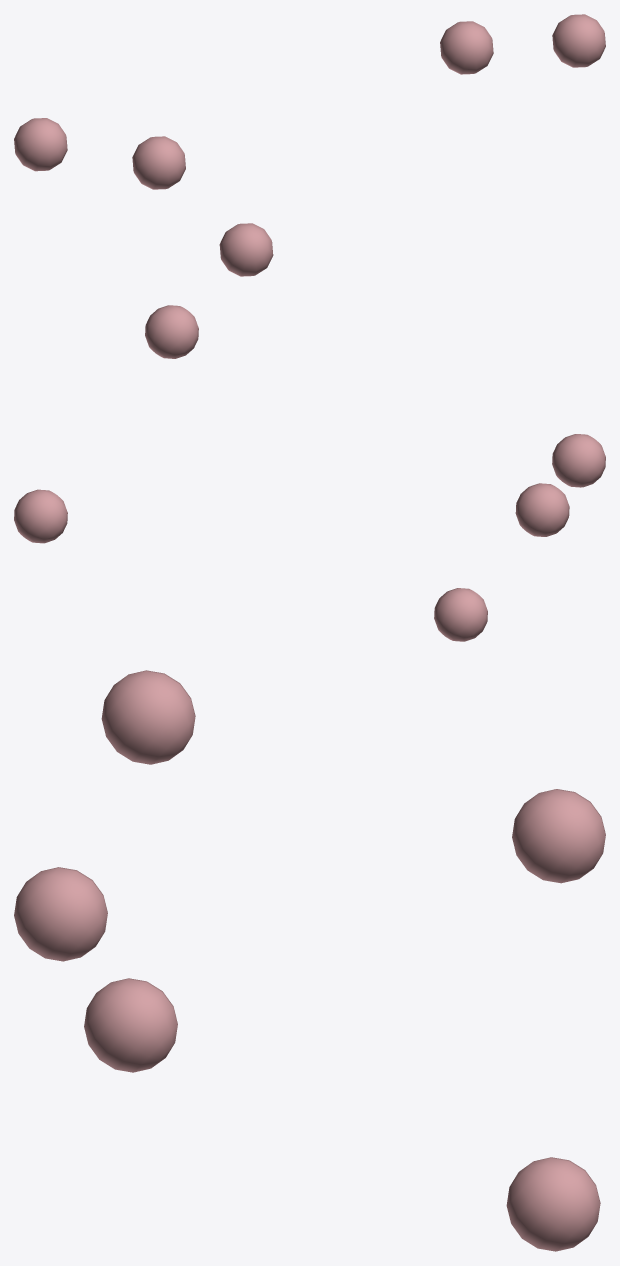
3 views of the same model, one above another, from view 1: azimuth 30°, elevation 25°; view 2: azimuth 150°, elevation 25°; view 3: azimuth 270°, elevation 25° (orthographic). The views are drawn at different scales.
Parts seen in each view (by area): view 1: ZA_52be2222938d69b1; view 2: ZA_52be2222938d69b1; view 3: ZA_52be2222938d69b1.
Part boxes in pixels (x1,y1,x2,y2): ZA_52be2222938d69b1: (14,14,605,276); ZA_52be2222938d69b1: (14,305,605,641); ZA_52be2222938d69b1: (14,670,605,1251).
Bounding box in the file's own units: 0.0257 × 0.00818 × 0.0162.
